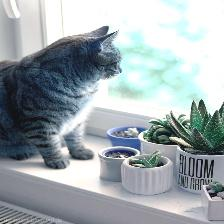kedo: (0, 25, 125, 169)
